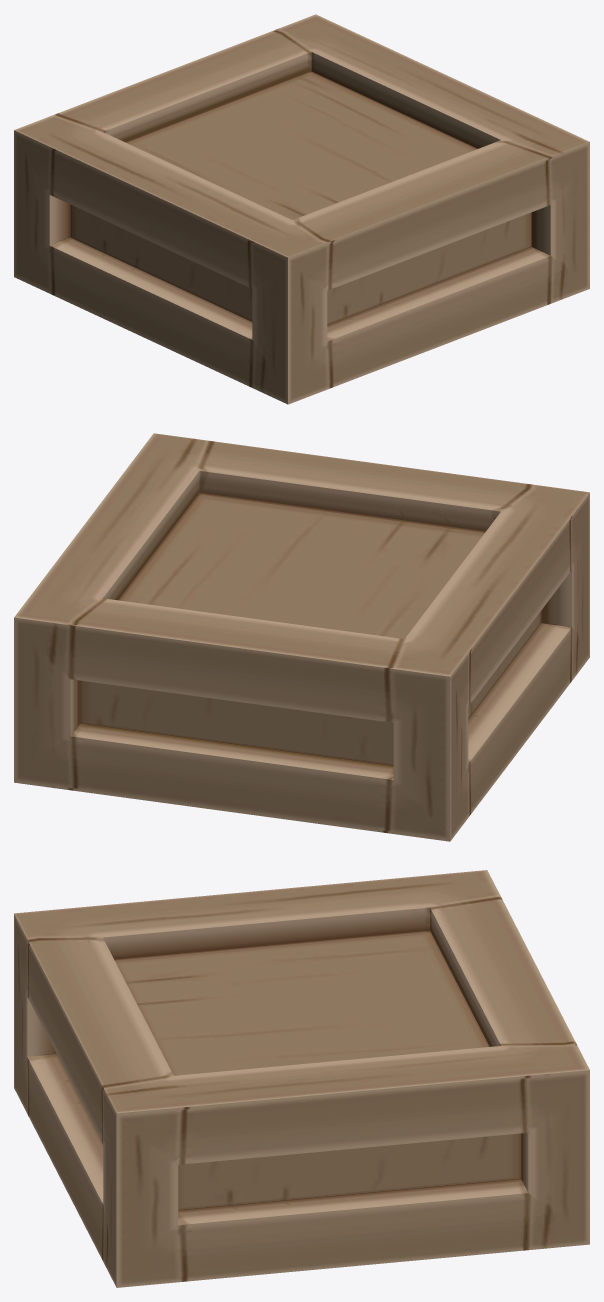
The model's file is Arctic_Table.fbx.
The picture shows the model from 3 angles, top to bottom: view 1: azimuth 30°, elevation 25°; view 2: azimuth 150°, elevation 25°; view 3: azimuth 270°, elevation 25°; orthographic projection. The views are drawn at different scales.
Visible parts, largest first — view 1: Arctic_Table; view 2: Arctic_Table; view 3: Arctic_Table.
Boxes of the visible parts, x1,y1,x2,y2 form: Arctic_Table: [14, 14, 589, 404]; Arctic_Table: [14, 433, 589, 841]; Arctic_Table: [14, 870, 589, 1287].
Size of the model in its own units: 1.91 by 0.6372 by 1.91.
Materials: 1 (1 with a texture image).
